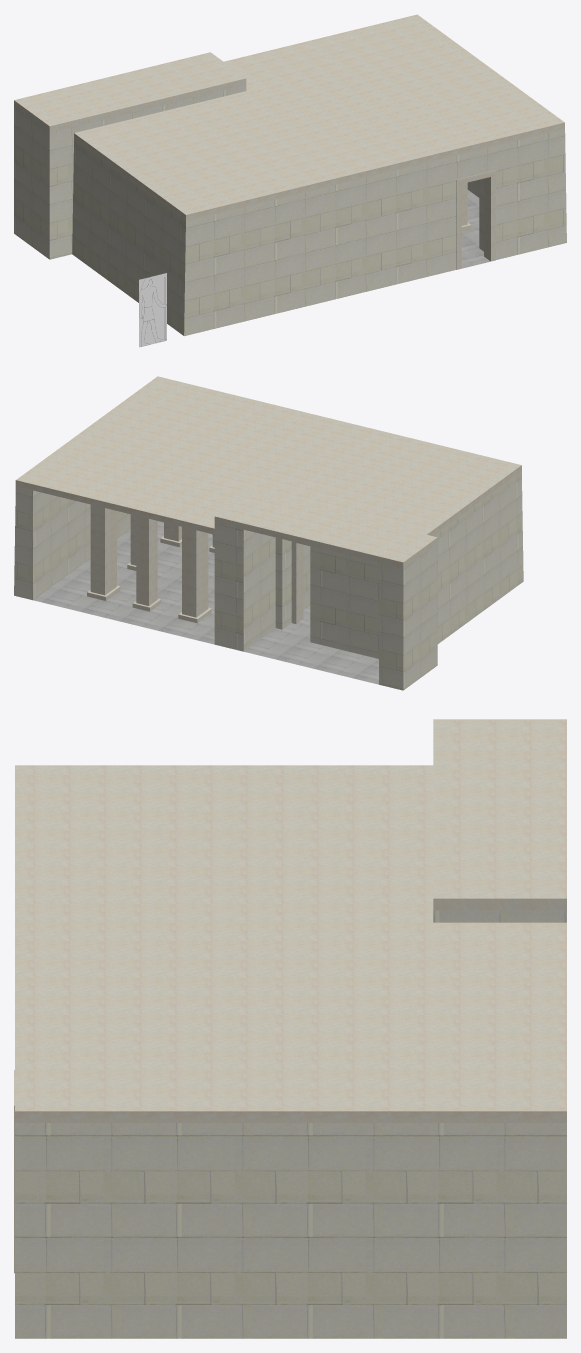
File: Ihy.glb
3 views of the same model, one above another, from view 1: azimuth 30°, elevation 25°; view 2: azimuth 150°, elevation 25°; view 3: azimuth 270°, elevation 25° (orthographic). The views are drawn at different scales.
Parts seen in each view (by area): view 1: Mesh1 Model, Mesh2 Model; view 2: Mesh1 Model; view 3: Mesh1 Model.
Boxes of the visible parts, left/top/right/bottom form: Mesh1 Model: left=14, top=14, right=566, bottom=335; Mesh2 Model: left=139, top=273, right=166, bottom=347; Mesh1 Model: left=14, top=376, right=523, bottom=690; Mesh1 Model: left=14, top=719, right=566, bottom=1338.
Bounding box in the file's own units: 10.57 × 3.16 × 6.33.
Materials: 5 (4 with a texture image).
